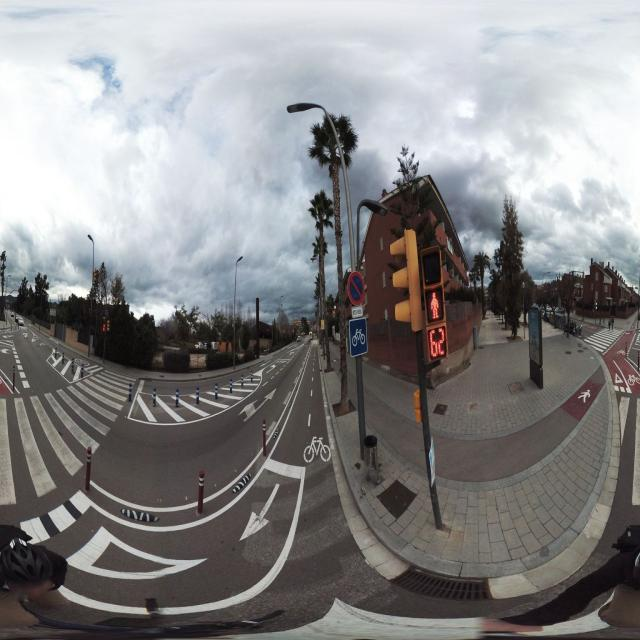forb_stopping: (348, 272, 365, 306)
